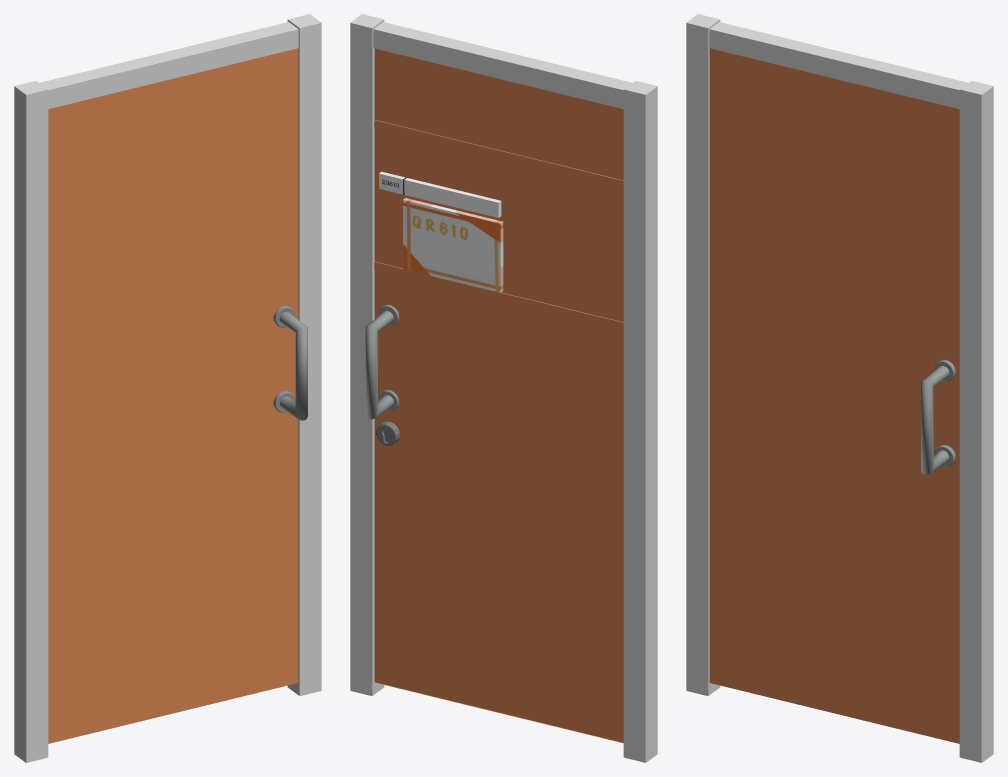
File: Door.fbx
3 renders of one model, left to right at view 1: azimuth 30°, elevation 25°; view 2: azimuth 150°, elevation 25°; view 3: azimuth 330°, elevation 25°, orthographic.
Parts seen in each view (by area): view 1: 門面, 門框右, 門框左, 門框上, 門後把手; view 2: 門面, 門框右, 門框左, 門框上, 門牌下, 門牌上, 門前把手; view 3: 門面, 門框左, 門框右, 門框上, 門後把手.
Boxes of the visible parts, x1=… form: 門面: x1=48, y1=48, x2=298, y2=743; 門框右: x1=14, y1=81, x2=48, y2=762; 門框左: x1=287, y1=14, x2=321, y2=695; 門框上: x1=39, y1=22, x2=298, y2=108; 門後把手: x1=279, y1=312, x2=307, y2=420; 門面: x1=374, y1=48, x2=623, y2=743; 門框右: x1=623, y1=81, x2=657, y2=762; 門框左: x1=350, y1=14, x2=384, y2=695; 門框上: x1=373, y1=22, x2=632, y2=108; 門牌下: x1=403, y1=198, x2=503, y2=292; 門牌上: x1=379, y1=171, x2=501, y2=217; 門前把手: x1=365, y1=311, x2=393, y2=419; 門面: x1=709, y1=48, x2=959, y2=743; 門框左: x1=959, y1=81, x2=993, y2=762; 門框右: x1=686, y1=14, x2=720, y2=695; 門框上: x1=709, y1=22, x2=968, y2=108; 門後把手: x1=921, y1=365, x2=949, y2=474.
Bounding box in the file's own units: 101 × 218 × 29.37.
